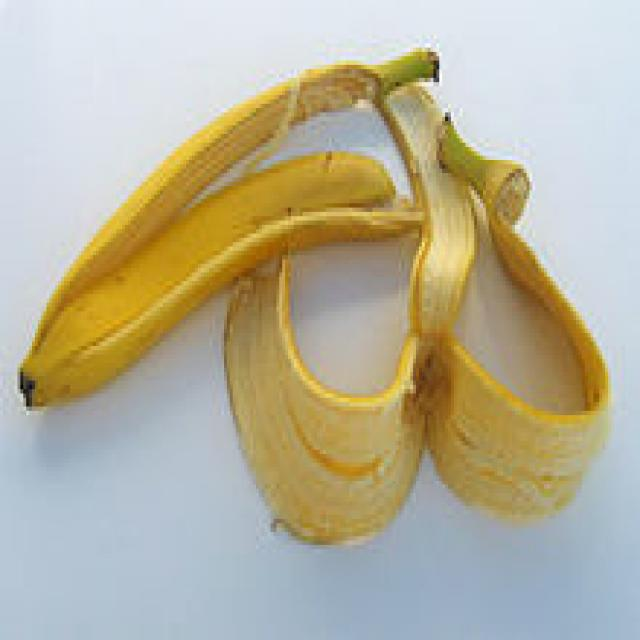Cascara de banano: (70, 110, 566, 485)
